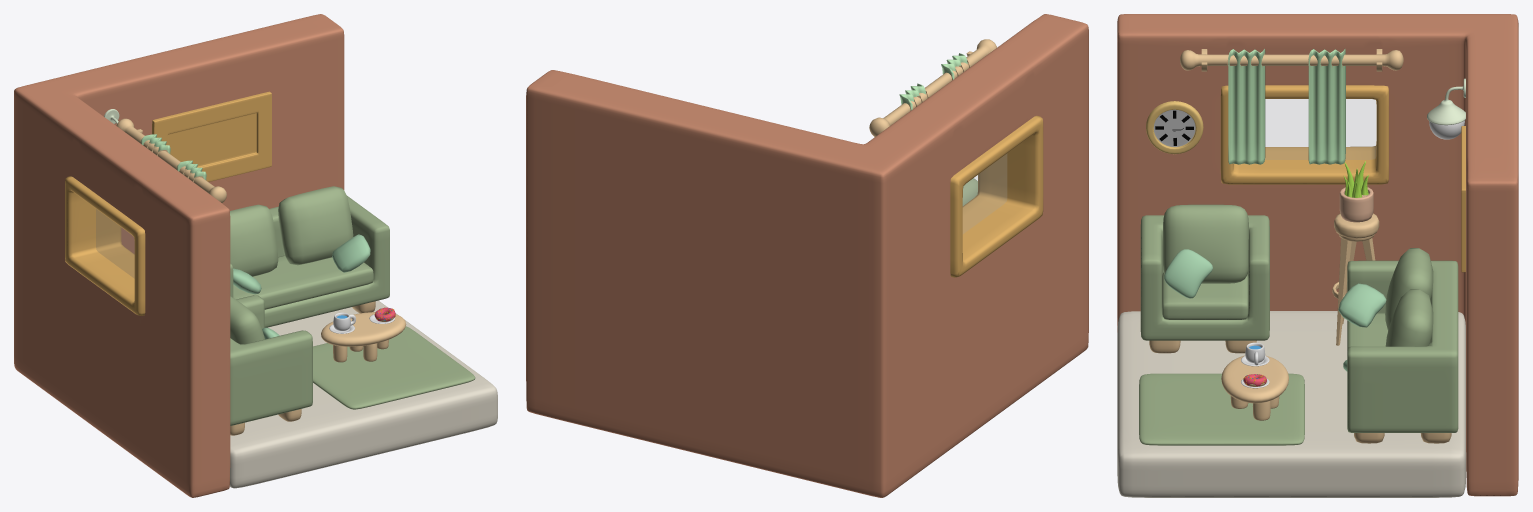
The picture shows the model from 3 angles, left to right: view 1: azimuth 30°, elevation 25°; view 2: azimuth 150°, elevation 25°; view 3: azimuth 270°, elevation 25°; orthographic projection. The views are drawn at different scales.
Visible parts, largest first — view 1: Base, Double Sofa, Single Sofa, Window, Coffe Table, Curtain; view 2: Base, Window, Curtain; view 3: Base, Double Sofa, Single Sofa, Window, Curtain, Table Side, Coffe Table, Clock, Light.
Part boxes in pixels (left/top/right/bottom): Base: left=14, top=14, right=497, bottom=497; Double Sofa: left=230, top=186, right=389, bottom=327; Single Sofa: left=230, top=295, right=312, bottom=435; Window: left=65, top=176, right=145, bottom=315; Coffe Table: left=321, top=307, right=406, bottom=362; Curtain: left=116, top=118, right=226, bottom=202; Base: left=526, top=14, right=1088, bottom=497; Window: left=950, top=115, right=1043, bottom=277; Curtain: left=869, top=39, right=996, bottom=136; Base: left=1117, top=14, right=1518, bottom=497; Double Sofa: left=1338, top=248, right=1458, bottom=443; Single Sofa: left=1140, top=204, right=1269, bottom=353; Window: left=1220, top=85, right=1388, bottom=184; Curtain: left=1180, top=49, right=1403, bottom=164; Table Side: left=1332, top=161, right=1379, bottom=345; Coffe Table: left=1221, top=342, right=1288, bottom=420; Clock: left=1146, top=101, right=1203, bottom=154; Light: left=1427, top=78, right=1465, bottom=139.
Bounding box in the file's own units: 8.87 × 7.64 × 8.69.
